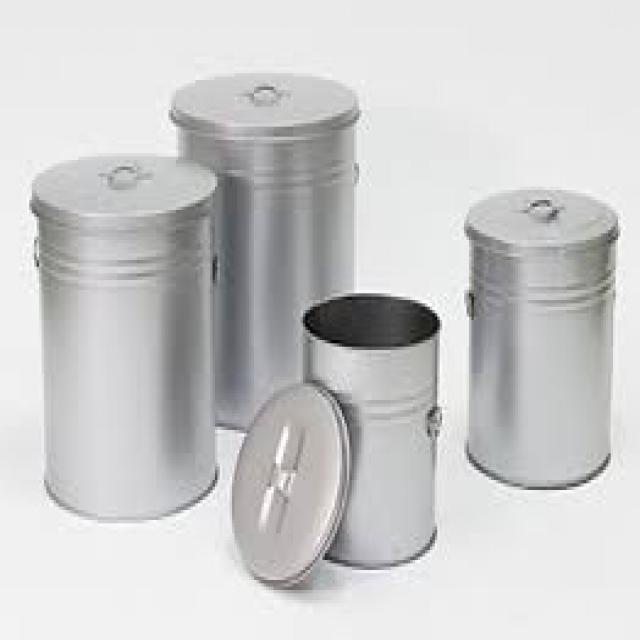recyclable: (27, 150, 218, 520), (169, 72, 360, 434), (464, 188, 622, 488), (303, 293, 443, 569), (230, 382, 351, 587)
